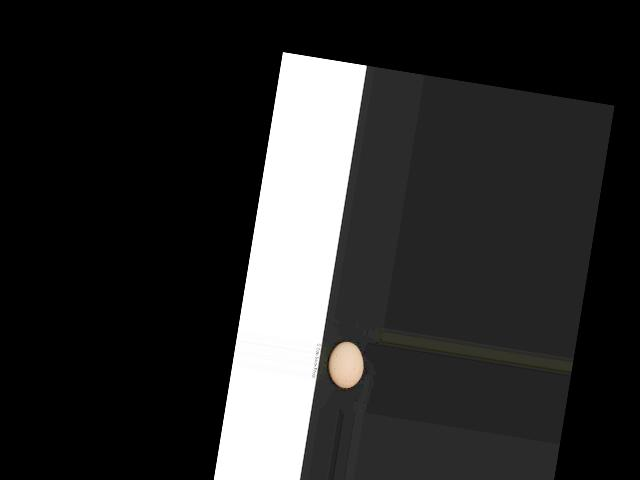egg: (324, 339, 366, 390)
